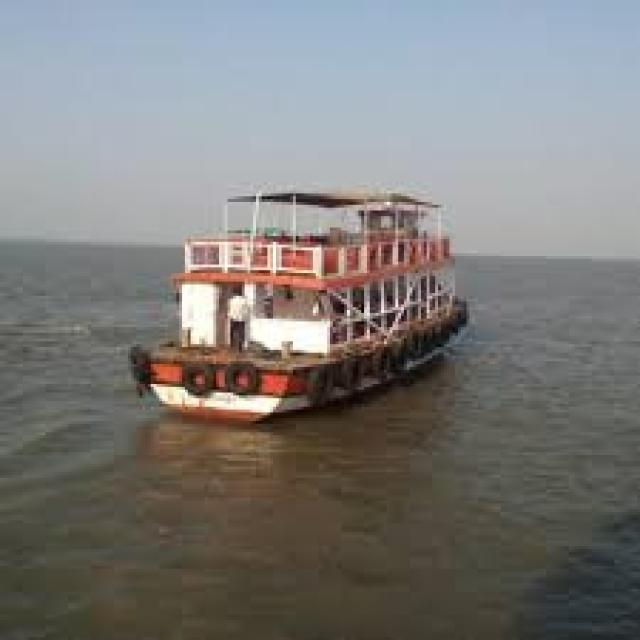fishing boat: (87, 148, 479, 439)
